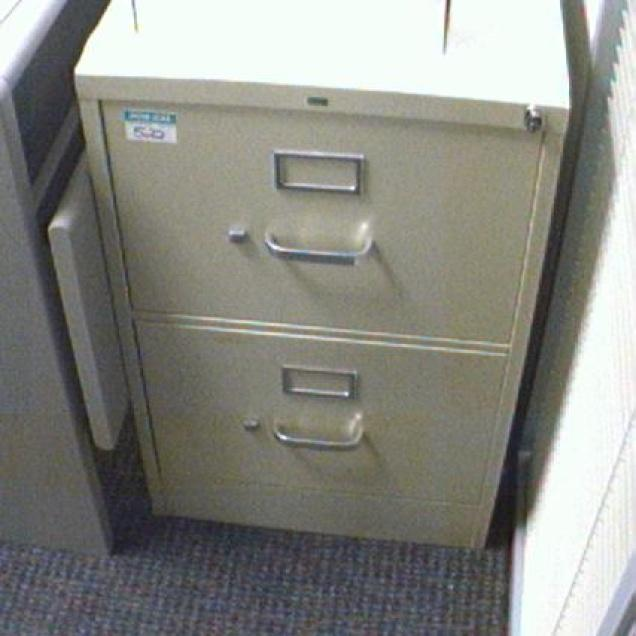Filing Cabinet: (74, 72, 571, 553)
